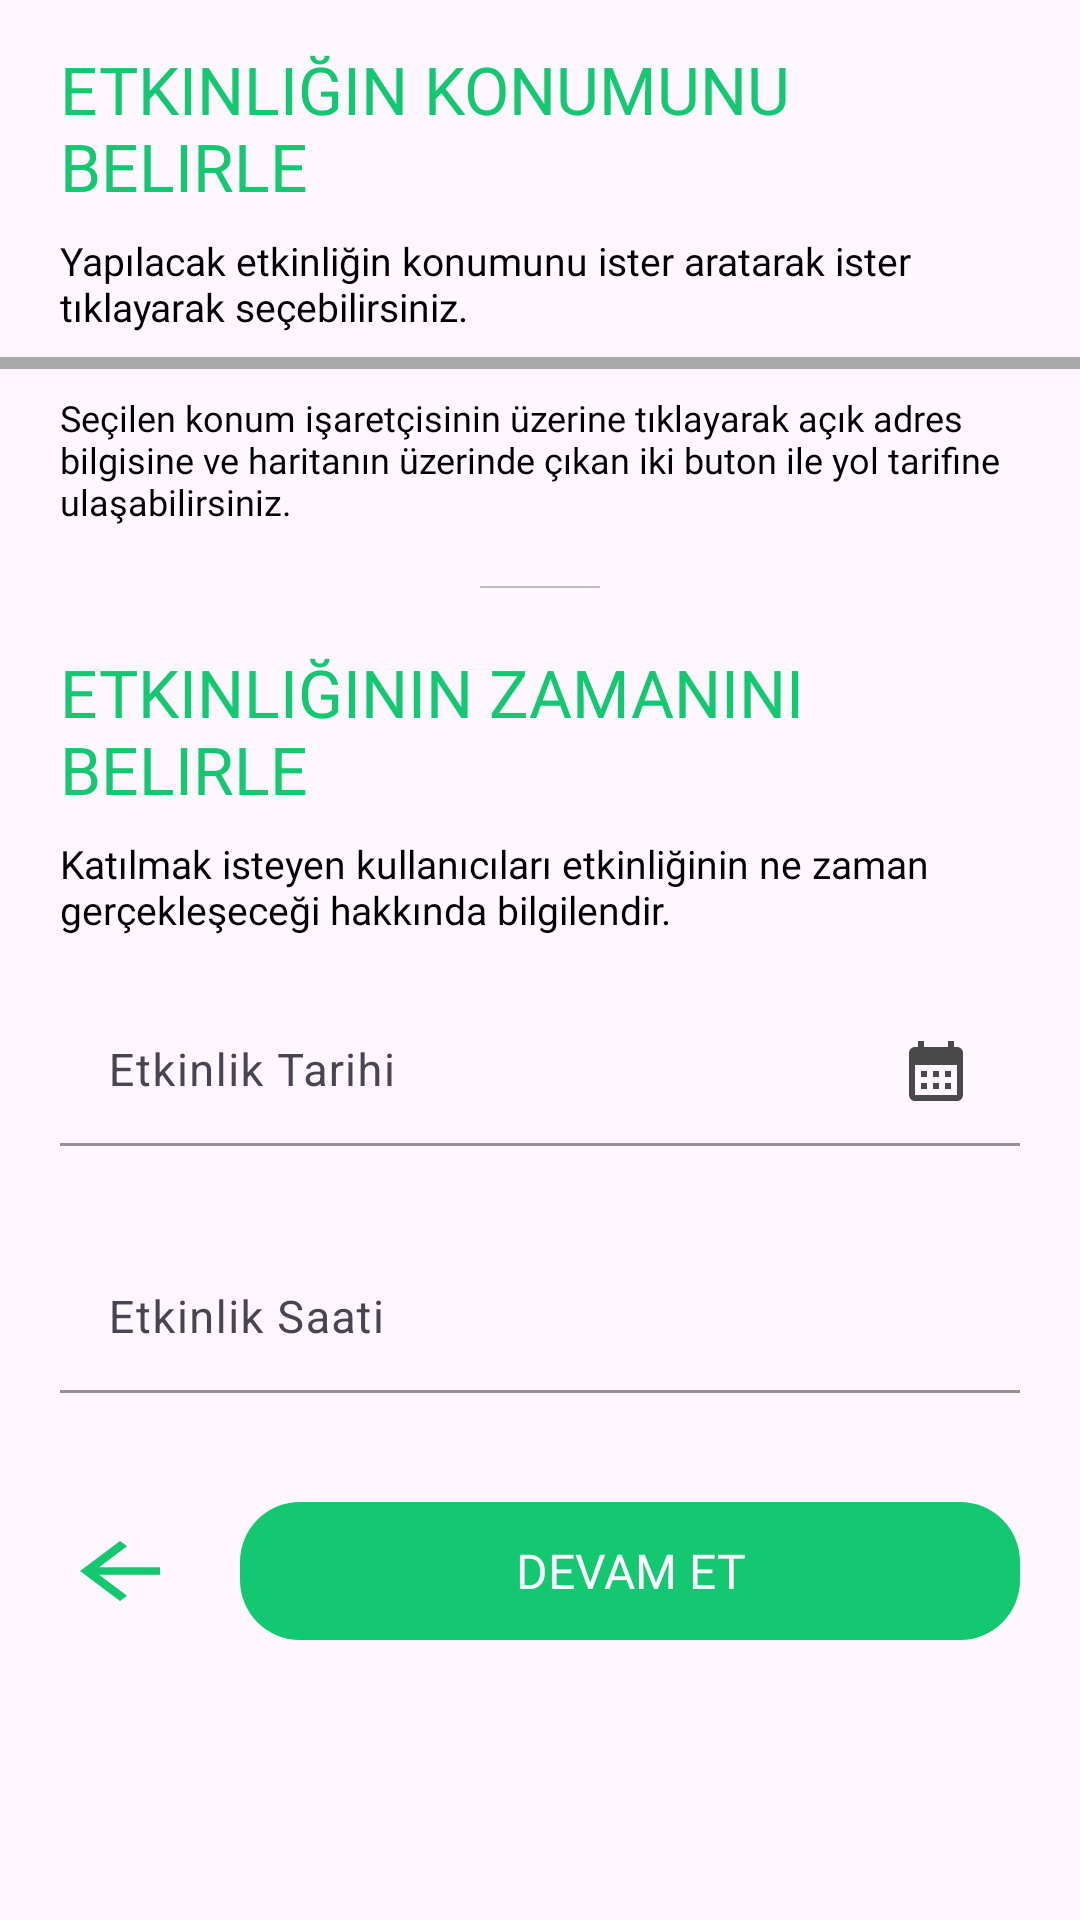

Screen size 1080 × 1920. Icon name, then its box in pixels as (x1, y1, x2, y2):
arrowback: (80, 1541, 160, 1601)
